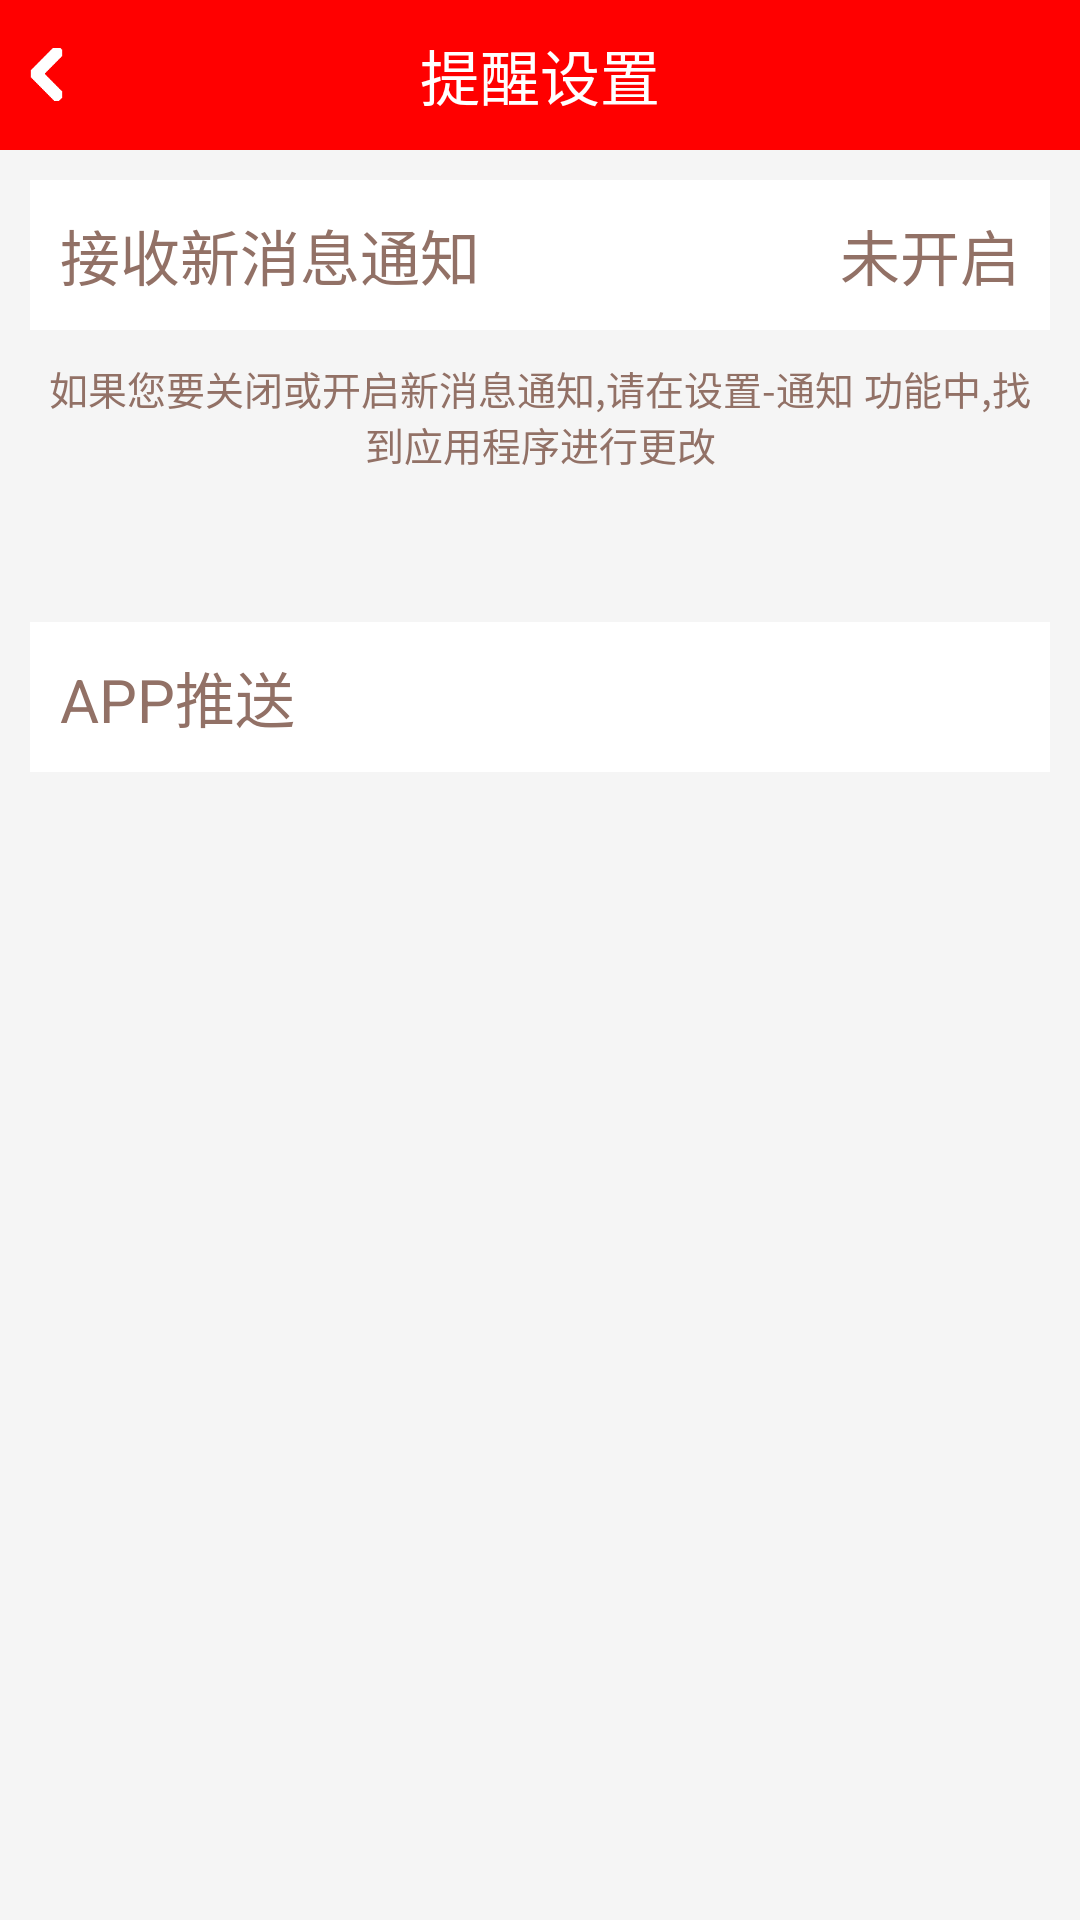

Where icons sit on this 1080w x 1920h app screen, as (x1, y1, x2, y2):
bar back: (30, 48, 63, 101)
